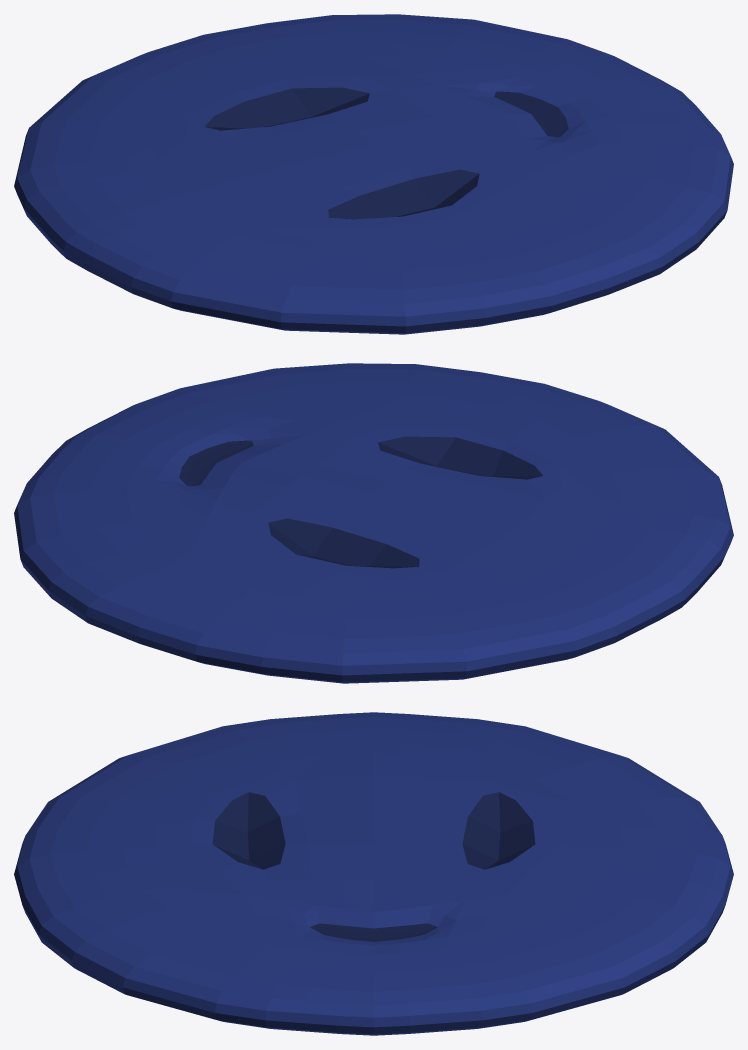
Rendered from alienPog.fbx.
The picture shows the model from 3 angles, top to bottom: view 1: azimuth 30°, elevation 25°; view 2: azimuth 150°, elevation 25°; view 3: azimuth 270°, elevation 25°; orthographic projection.
Visible parts, largest first — view 1: AlienPog; view 2: AlienPog; view 3: AlienPog.
Part boxes in pixels (<box>): AlienPog: <box>14,14,733,334</box>; AlienPog: <box>14,363,733,683</box>; AlienPog: <box>14,712,733,1035</box>.
Bounding box in the file's own units: 92.11 × 8.81 × 91.59.
